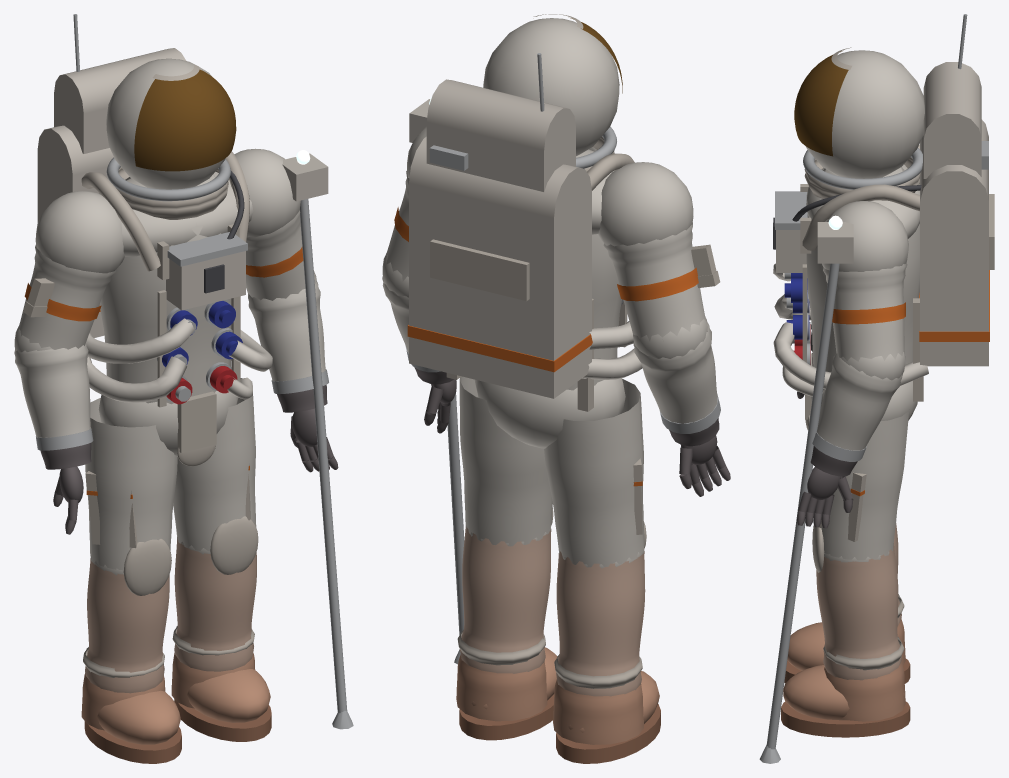
File: C02_colonist_survey_pole.glb
3 views of the same model, side by side, from view 1: azimuth 30°, elevation 25°; view 2: azimuth 150°, elevation 25°; view 3: azimuth 270°, elevation 25° (orthographic). The views are drawn at different scales.
Visible parts, largest first — view 1: thigh, unit_top, knee_patch, shin, unit, boot_shaft, pocket_stripe, oxygen_hose, gauntlet, suit_connector; view 2: thigh, unit, shin, boot_shaft, knee_patch, pocket_stripe, unit_top, gauntlet, oxygen_hose; view 3: thigh, unit, unit_top, shin, knee_patch, boot_shaft, pocket_stripe, gauntlet, oxygen_hose, suit_connector.
Boxes of the visible parts, bbox=[...] form: thigh: bbox=[14, 58, 325, 575]; unit_top: bbox=[36, 14, 353, 729]; knee_patch: bbox=[23, 65, 258, 677]; shin: bbox=[85, 537, 256, 693]; unit: bbox=[37, 48, 328, 337]; boot_shaft: bbox=[81, 653, 270, 744]; pocket_stripe: bbox=[24, 171, 303, 763]; oxygen_hose: bbox=[86, 318, 272, 402]; gauntlet: bbox=[40, 384, 338, 534]; suit_connector: bbox=[162, 301, 242, 404]; thigh: bbox=[382, 18, 717, 568]; unit: bbox=[409, 79, 591, 398]; shin: bbox=[460, 526, 645, 696]; boot_shaft: bbox=[456, 647, 659, 744]; knee_patch: bbox=[430, 14, 720, 688]; pocket_stripe: bbox=[394, 207, 698, 763]; unit_top: bbox=[405, 18, 720, 664]; gauntlet: bbox=[414, 367, 730, 496]; oxygen_hose: bbox=[582, 321, 642, 379]; thigh: bbox=[806, 50, 924, 562]; unit: bbox=[776, 62, 988, 366]; unit_top: bbox=[759, 14, 988, 763]; shin: bbox=[816, 523, 901, 680]; knee_patch: bbox=[800, 47, 994, 670]; boot_shaft: bbox=[783, 619, 905, 721]; pocket_stripe: bbox=[773, 185, 989, 737]; gauntlet: bbox=[797, 331, 857, 528]; oxygen_hose: bbox=[773, 263, 928, 396]; suit_connector: bbox=[784, 273, 810, 364].
Size of the model in its own units: 0.9324 by 2.02 by 0.6477.
